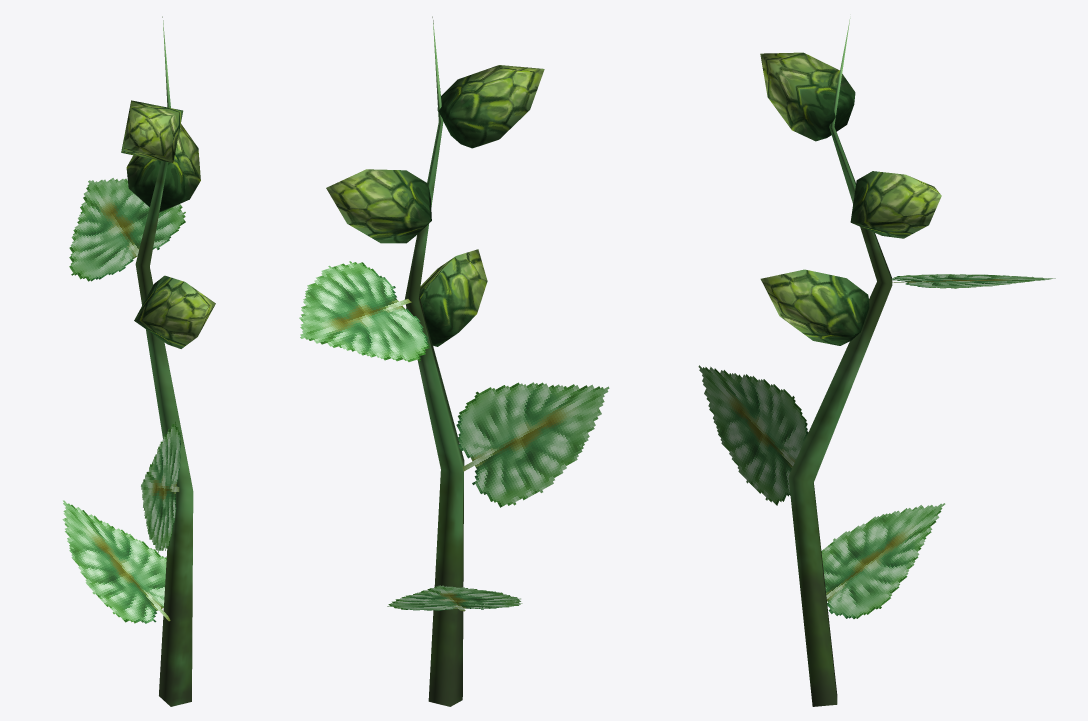
File: HopsPlant.fbx
The picture shows the model from 3 angles, left to right: view 1: azimuth 30°, elevation 25°; view 2: azimuth 150°, elevation 25°; view 3: azimuth 270°, elevation 25°; orthographic projection. The views are drawn at different scales.
Visible parts, largest first — view 1: Cube.035; view 2: Cube.035; view 3: Cube.035.
Part boxes in pixels (left/top/right/bottom): Cube.035: left=62, top=16, right=215, bottom=706; Cube.035: left=299, top=16, right=609, bottom=706; Cube.035: left=698, top=18, right=1055, bottom=706.
Size of the model in its own units: 210 by 654 by 345.
